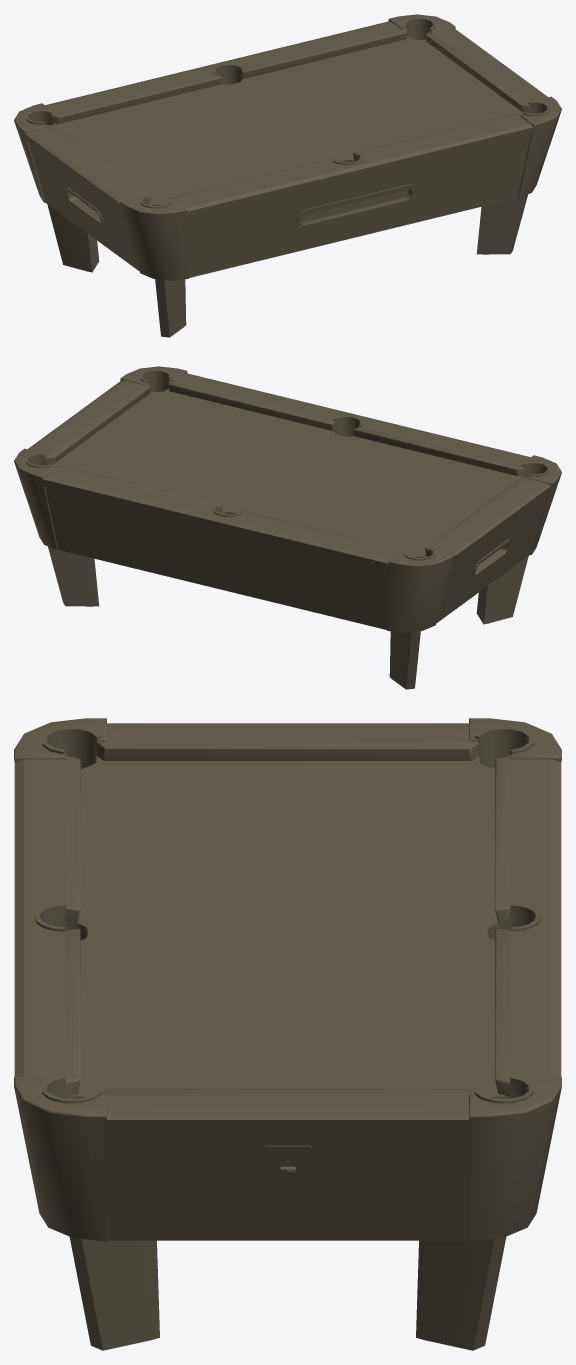
The model's file is game_hall_billard_table.dae.
3 renders of one model, top to bottom at view 1: azimuth 30°, elevation 25°; view 2: azimuth 150°, elevation 25°; view 3: azimuth 270°, elevation 25°, orthographic. The views are drawn at different scales.
Parts seen in each view (by area): view 1: Mesh14_Group3_Group1_Model; view 2: Mesh14_Group3_Group1_Model; view 3: Mesh14_Group3_Group1_Model.
Part boxes in pixels (x1,y1,x2,y2): Mesh14_Group3_Group1_Model: (14,14,561,337); Mesh14_Group3_Group1_Model: (14,366,561,689); Mesh14_Group3_Group1_Model: (14,718,561,1350).
Bounding box in the file's own units: 2.31 × 1.35 × 0.7444.
